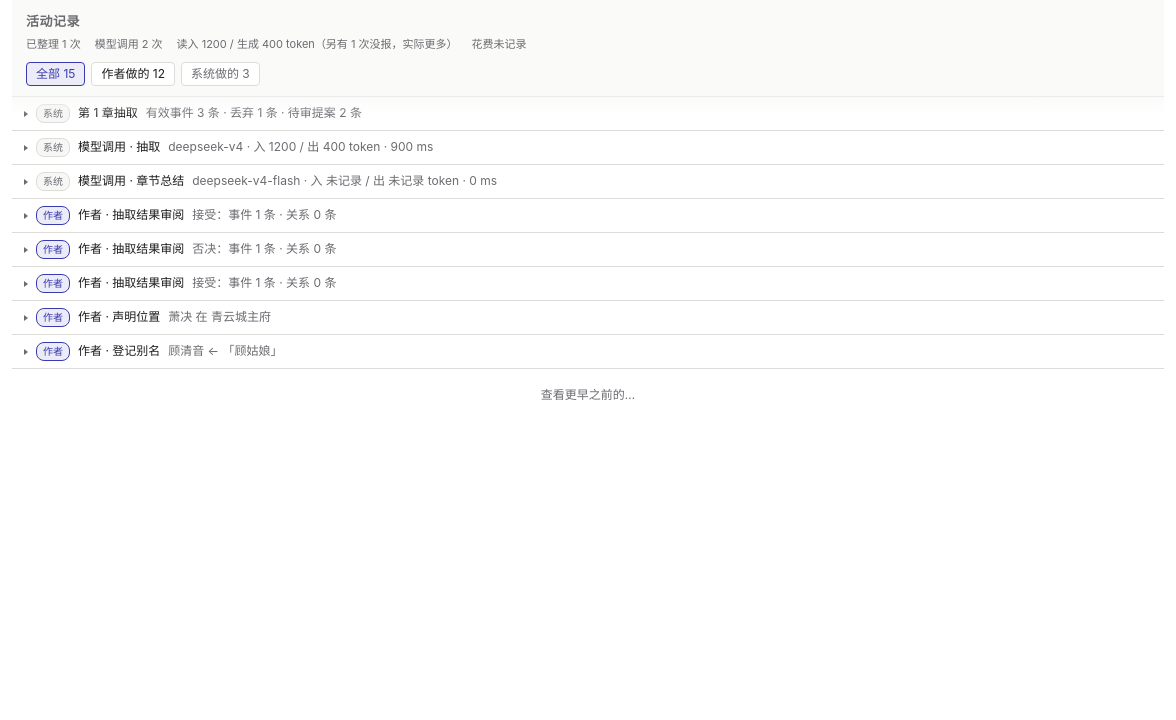
Scenario: 活动记录 › `endpoints` 为空时说的是「从这儿点不到某一处」，**不是「改不了」**
Click the button "作者 作者 · 抽取结果审阅 否决：事件 1 条 · 关系 0 条".
click(53, 250)  # box [12,233,1164,266]
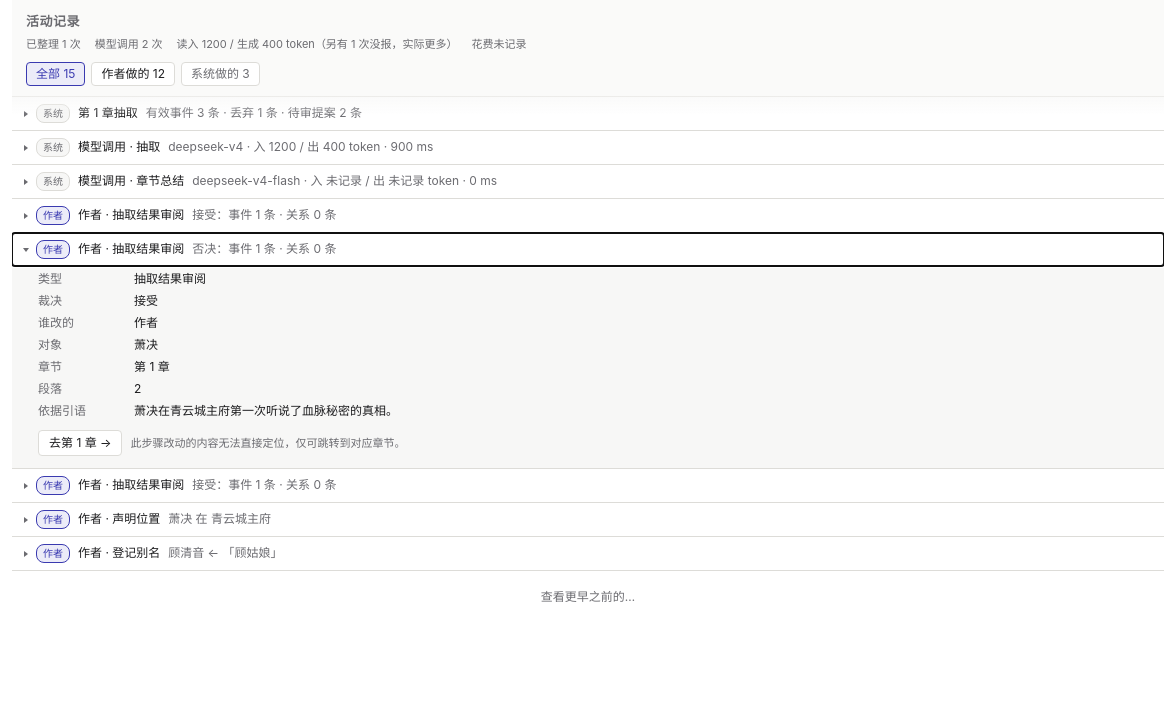
expect the text "此步骤改动的内容无法直接定位，仅可跳转到对应章节。" is shown: met, box [130,435,406,451]
